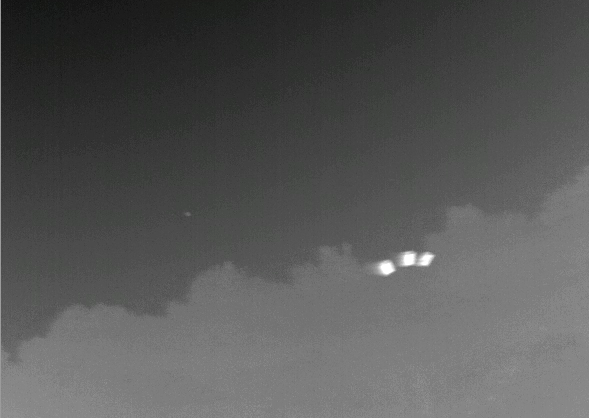dim target: (183, 210, 192, 217)
